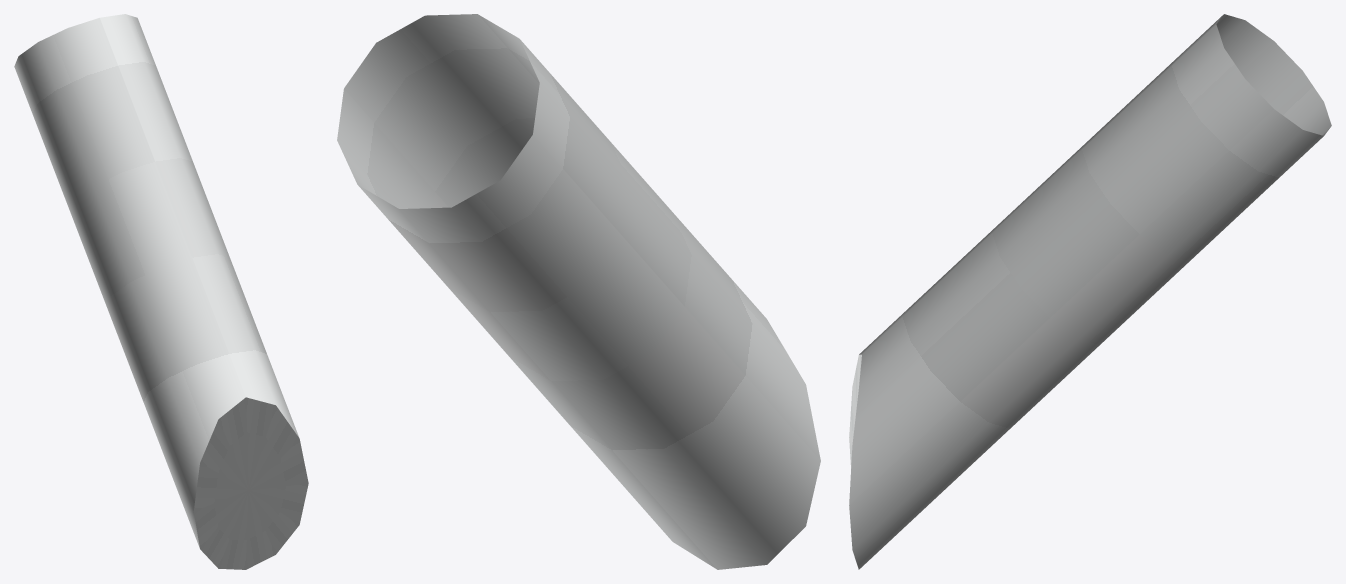
File: luminairearm_truss8ftstraight_c1_thin.obj
3 views of the same model, side by side, from view 1: azimuth 30°, elevation 25°; view 2: azimuth 150°, elevation 25°; view 3: azimuth 270°, elevation 25° (orthographic). The views are drawn at different scales.
Parts seen in each view (by area): view 1: luminairearm_truss8ftstraight_c1_thin; view 2: luminairearm_truss8ftstraight_c1_thin; view 3: luminairearm_truss8ftstraight_c1_thin.
Part boxes in pixels (x1,y1,x2,y2): luminairearm_truss8ftstraight_c1_thin: (14,14,308,569); luminairearm_truss8ftstraight_c1_thin: (337,14,820,569); luminairearm_truss8ftstraight_c1_thin: (849,14,1331,569).
Bounding box in the file's own units: 0.1562 × 0.5782 × 0.4685.
